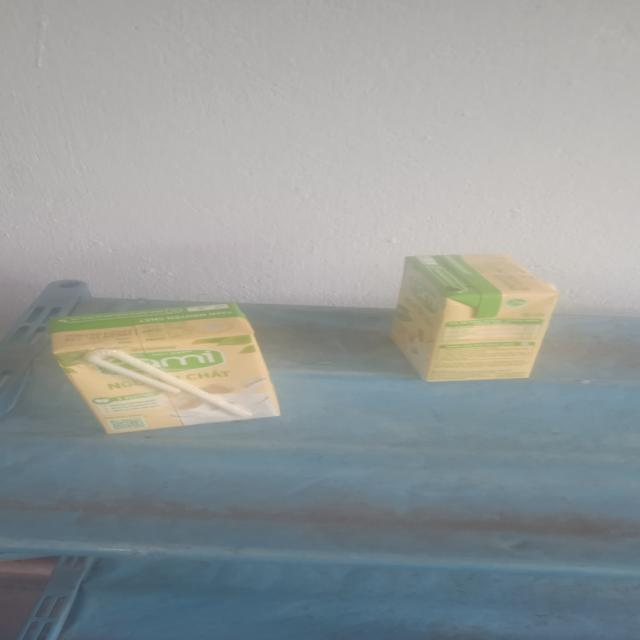Fami: (51, 301, 281, 435), (386, 255, 556, 381)
